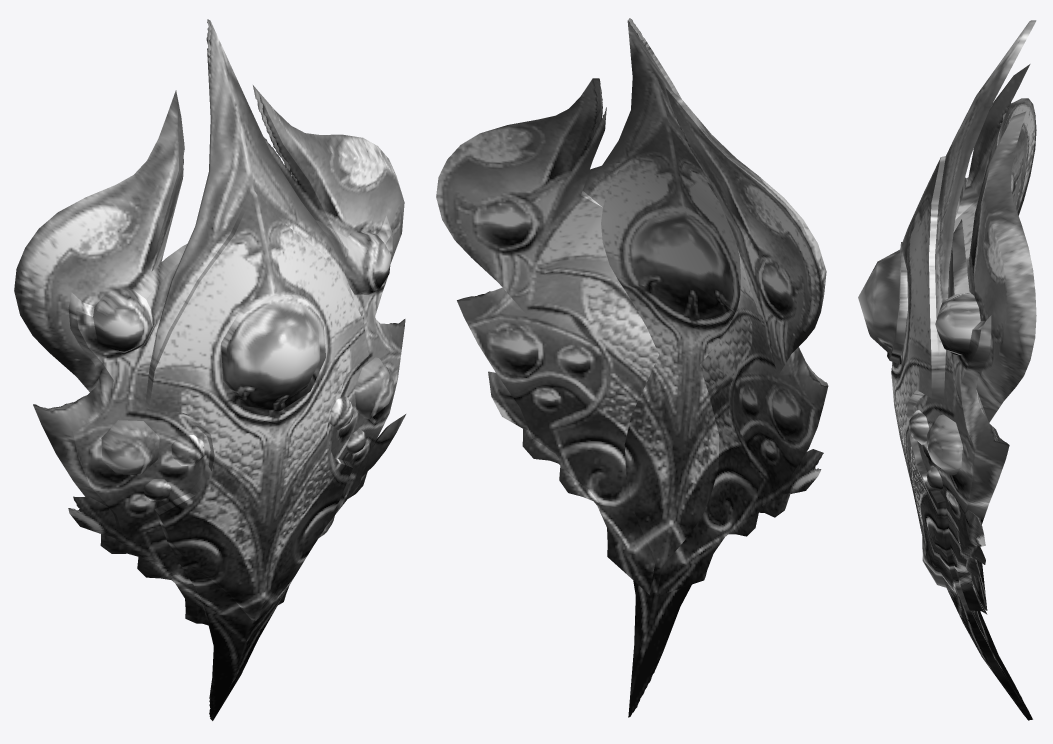
File: shield02.FBX
3 renders of one model, left to right at view 1: azimuth 30°, elevation 25°; view 2: azimuth 150°, elevation 25°; view 3: azimuth 270°, elevation 25°, orthographic.
Visible parts, largest first — view 1: Object007; view 2: Object007; view 3: Object007.
Part boxes in pixels (bbox=[...]): Object007: bbox=[14, 19, 405, 720]; Object007: bbox=[436, 18, 828, 717]; Object007: bbox=[858, 20, 1036, 720].
Size of the model in its own units: 54.26 by 96.13 by 22.02.
